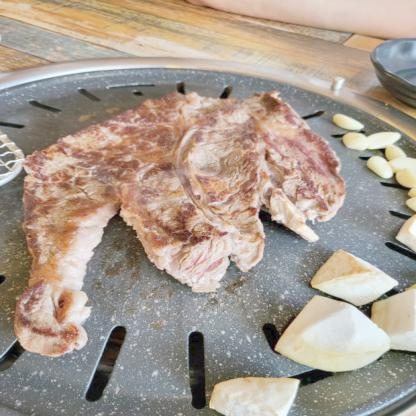Carne: (1, 90, 338, 254)
